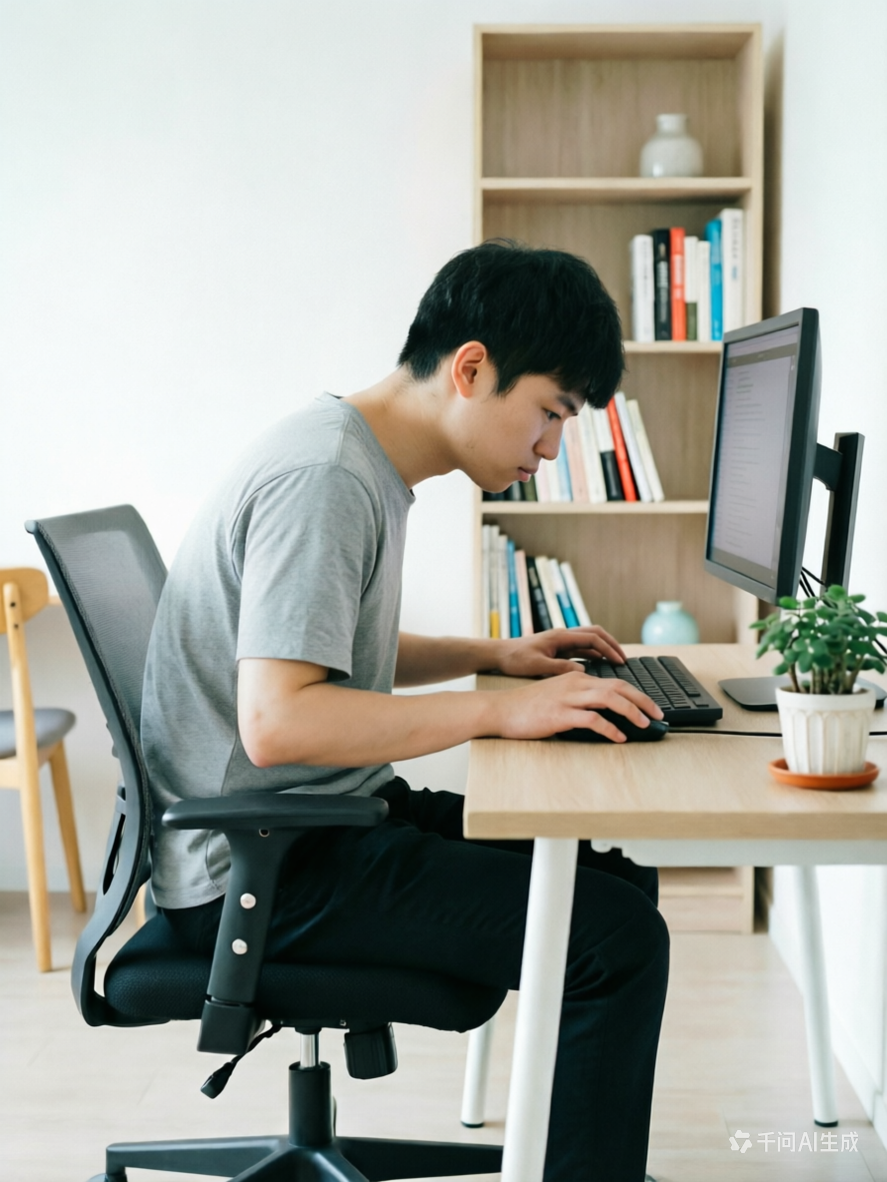sitting_bad: (122, 244, 681, 1166)
